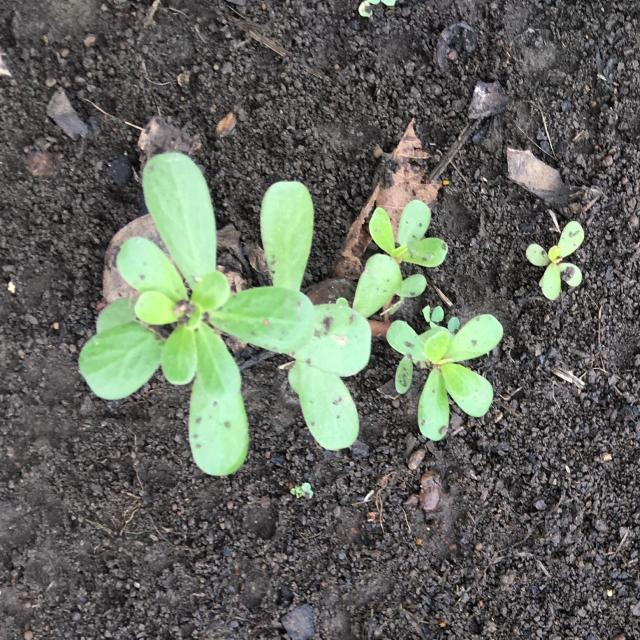Purslane: (78, 152, 449, 476), (386, 314, 504, 441), (526, 220, 585, 301)
